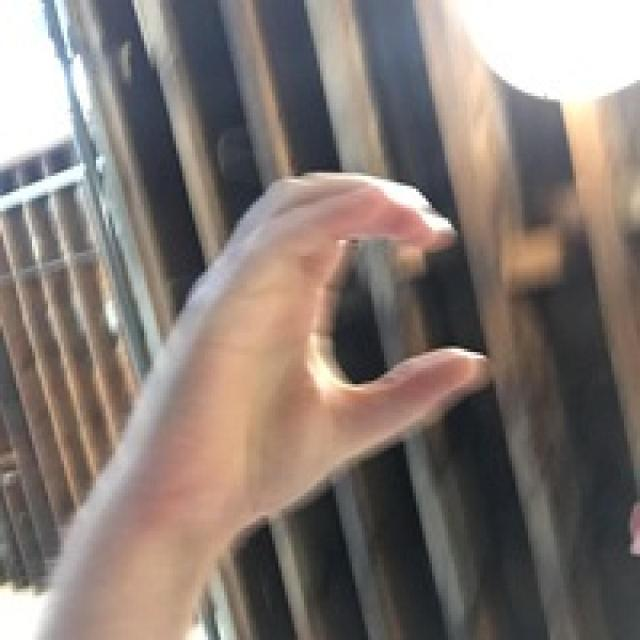C: (74, 104, 506, 546)
